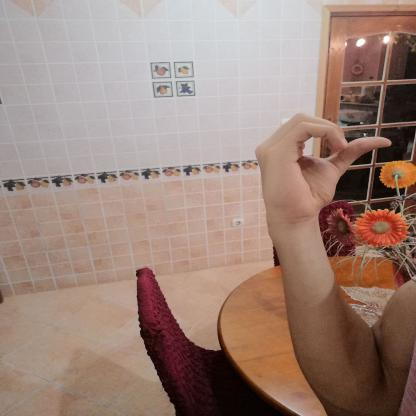WAW: (240, 105, 404, 232)
